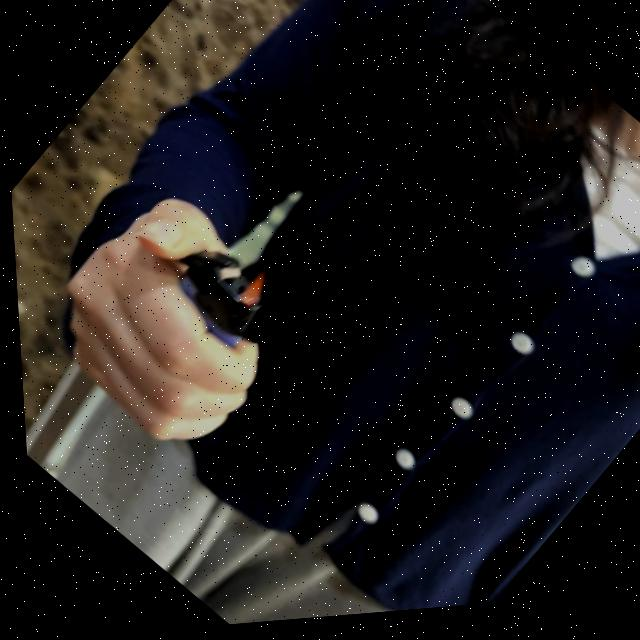Fire: (233, 267, 282, 317)
